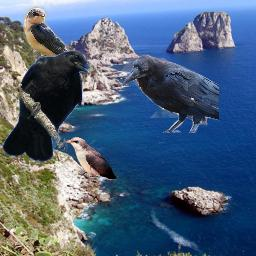Crow: (2, 50, 93, 163), (122, 53, 219, 133)
Cuckoo: (63, 137, 118, 179)
Swallow: (23, 4, 95, 73)
